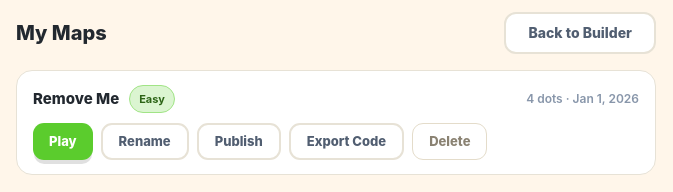
PathfinderMyMaps › Delete removes the map when confirmed
The width and height of the screenshot is (673, 192).
Click the button with aria-label "Delete Remove Me" at point(450, 142), box top-left (412, 123), bottom-right (487, 160)
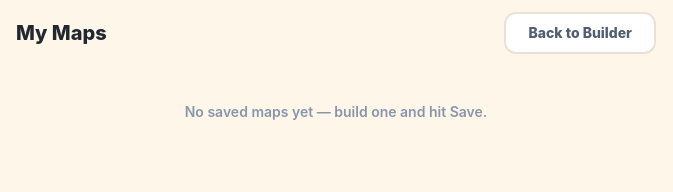
Expected: the text "Remove Me" is gone
